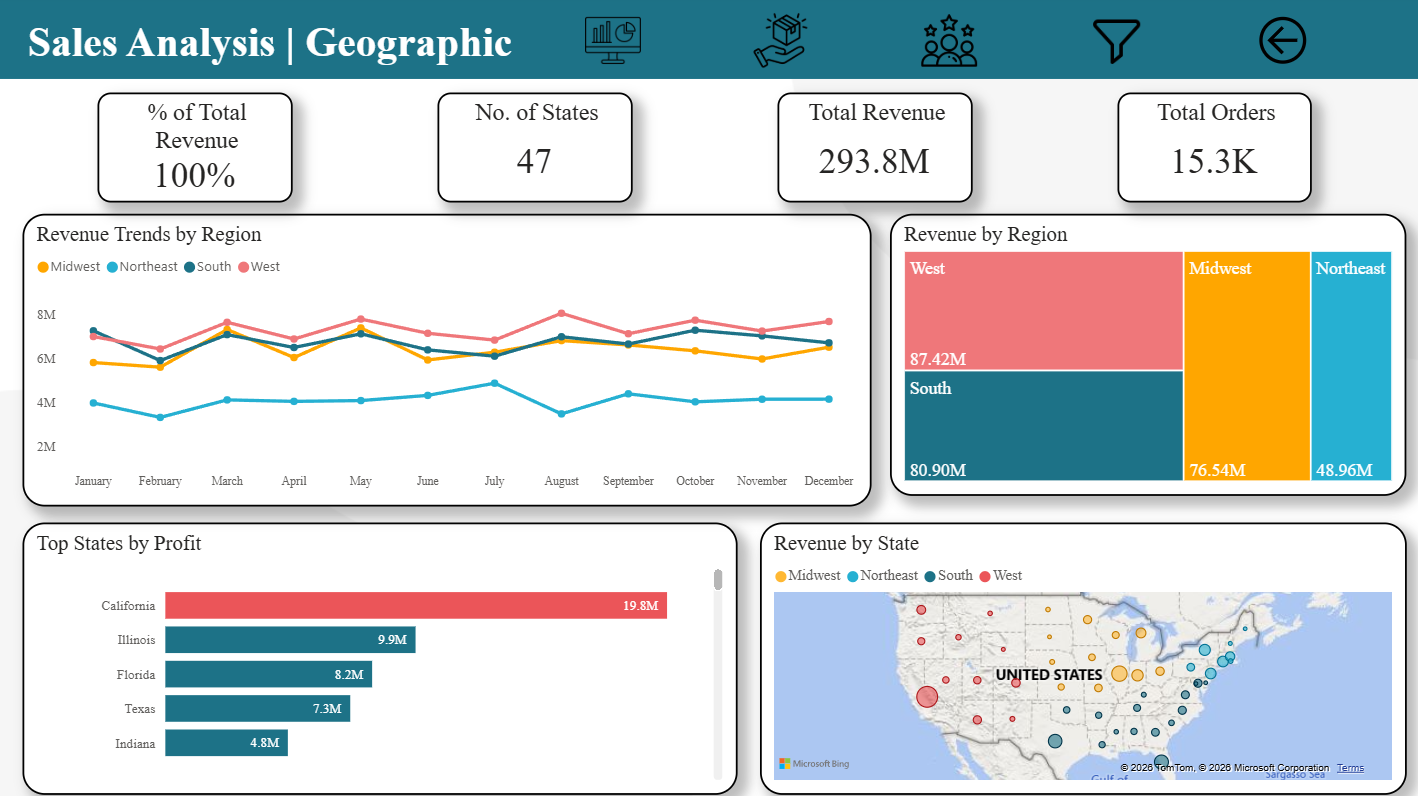

This screenshot's page, from the dashboard's own definition file:
{"tool":"powerbi","page":{"name":"Geographic","canvas":[1280,720],"ordinal":4},"visuals":[{"type":"shape","box":[0,0,1280.3,71.4],"z":0},{"type":"textbox","box":[20.8,11,464.7,59.9],"z":1000},{"type":"clusteredBarChart","title":"Top States by Profit","fields":{"Category":["sales.state_name"],"Y":["Sum(sales.profit)"]},"box":[20.8,470.8,644.4,245.8],"z":2000},{"type":"treemap","title":"Revenue by Region","fields":{"Group":["sales.region"],"Values":["Sum(sales.revenue)"]},"box":[802.2,193.2,465.9,254.3],"z":3000},{"type":"lineChart","title":"Revenue Trends by Region","fields":{"Category":["sales.order_date.Variation.Date Hierarchy.Month"],"Y":["Sum(sales.revenue)"],"Series":["sales.region"]},"box":[20.8,193.2,765.5,264.1],"z":5000},{"type":"card","title":"Total Revenue","fields":{"Values":["Sum(sales.revenue)"]},"box":[701,83.2,176.1,99],"z":7000},{"type":"card","title":"Total Orders","fields":{"Values":["CountNonNull(sales.order_number)"]},"box":[1007.5,83.2,174.9,99],"z":8000},{"type":"image","title":"Slicer Image","box":[982.2,11.2,50,50],"z":9000},{"type":"image","box":[527.5,11.2,50,50],"z":11000},{"type":"image","box":[679.1,11.2,50,50],"z":12000},{"type":"image","box":[830.6,11.2,50,50],"z":13000},{"type":"map","title":"Revenue by State","fields":{"Series":["sales.region"],"Size":["Sum(sales.revenue)"],"Category":["sales.state_name"]},"box":[684.8,470.8,583.3,245.8],"z":14000},{"type":"actionButton","box":[1129.6,8.7,54.6,54.6],"z":15000},{"type":"card","title":"% of Total Revenue","fields":{"Values":["_Measures.Region Revenue %"]},"box":[88,83.2,176.1,99],"z":16000},{"type":"card","title":"No. of States","fields":{"Values":["Count(sales.state_name)"]},"box":[394.5,83.2,176.1,99],"z":16500}]}

Visuals, with their boxes in screenshot pixels (x1, y1, x2, y2), scaled from the page's 1280x720 canvas onto the 1418x796 screenshot:
shape: <region>0, 0, 1417, 79</region>
textbox: <region>23, 12, 538, 78</region>
"Top States by Profit" clusteredBarChart: <region>23, 520, 737, 792</region>
"Revenue by Region" treemap: <region>889, 214, 1405, 495</region>
"Revenue Trends by Region" lineChart: <region>23, 214, 871, 506</region>
"Total Revenue" card: <region>777, 92, 972, 201</region>
"Total Orders" card: <region>1116, 92, 1310, 201</region>
"Slicer Image" image: <region>1088, 12, 1143, 68</region>
image: <region>584, 12, 640, 68</region>
image: <region>752, 12, 808, 68</region>
image: <region>920, 12, 976, 68</region>
"Revenue by State" map: <region>759, 520, 1405, 792</region>
actionButton: <region>1251, 10, 1312, 70</region>
"% of Total Revenue" card: <region>97, 92, 293, 201</region>
"No. of States" card: <region>437, 92, 632, 201</region>
